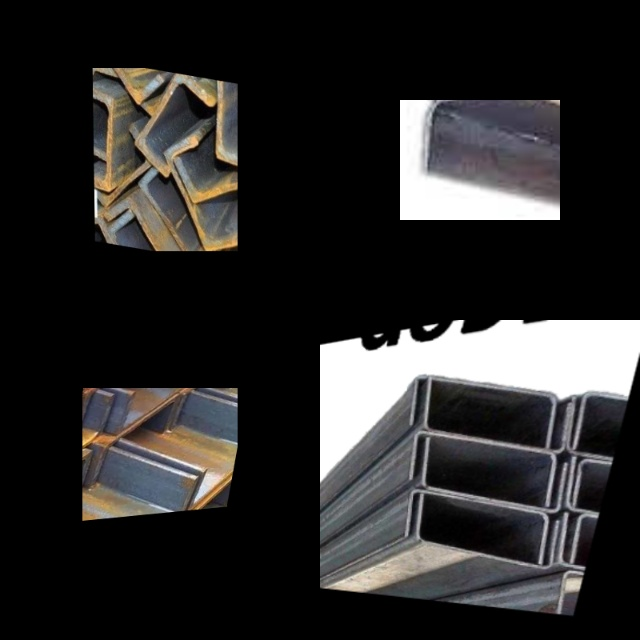Shveller: (420, 359, 580, 459), (406, 358, 565, 453), (407, 423, 565, 505), (420, 432, 573, 511), (414, 494, 564, 569), (404, 491, 556, 563), (426, 100, 560, 175), (166, 135, 238, 251), (138, 68, 211, 180), (556, 394, 630, 477), (141, 168, 214, 251), (568, 391, 631, 475), (176, 122, 238, 206), (93, 120, 148, 209), (190, 418, 238, 510), (557, 458, 613, 529), (116, 388, 199, 434), (552, 514, 599, 581), (82, 396, 112, 492), (145, 68, 197, 120), (92, 68, 161, 103), (93, 91, 113, 187), (93, 68, 114, 157), (217, 80, 238, 166), (82, 388, 101, 428)
